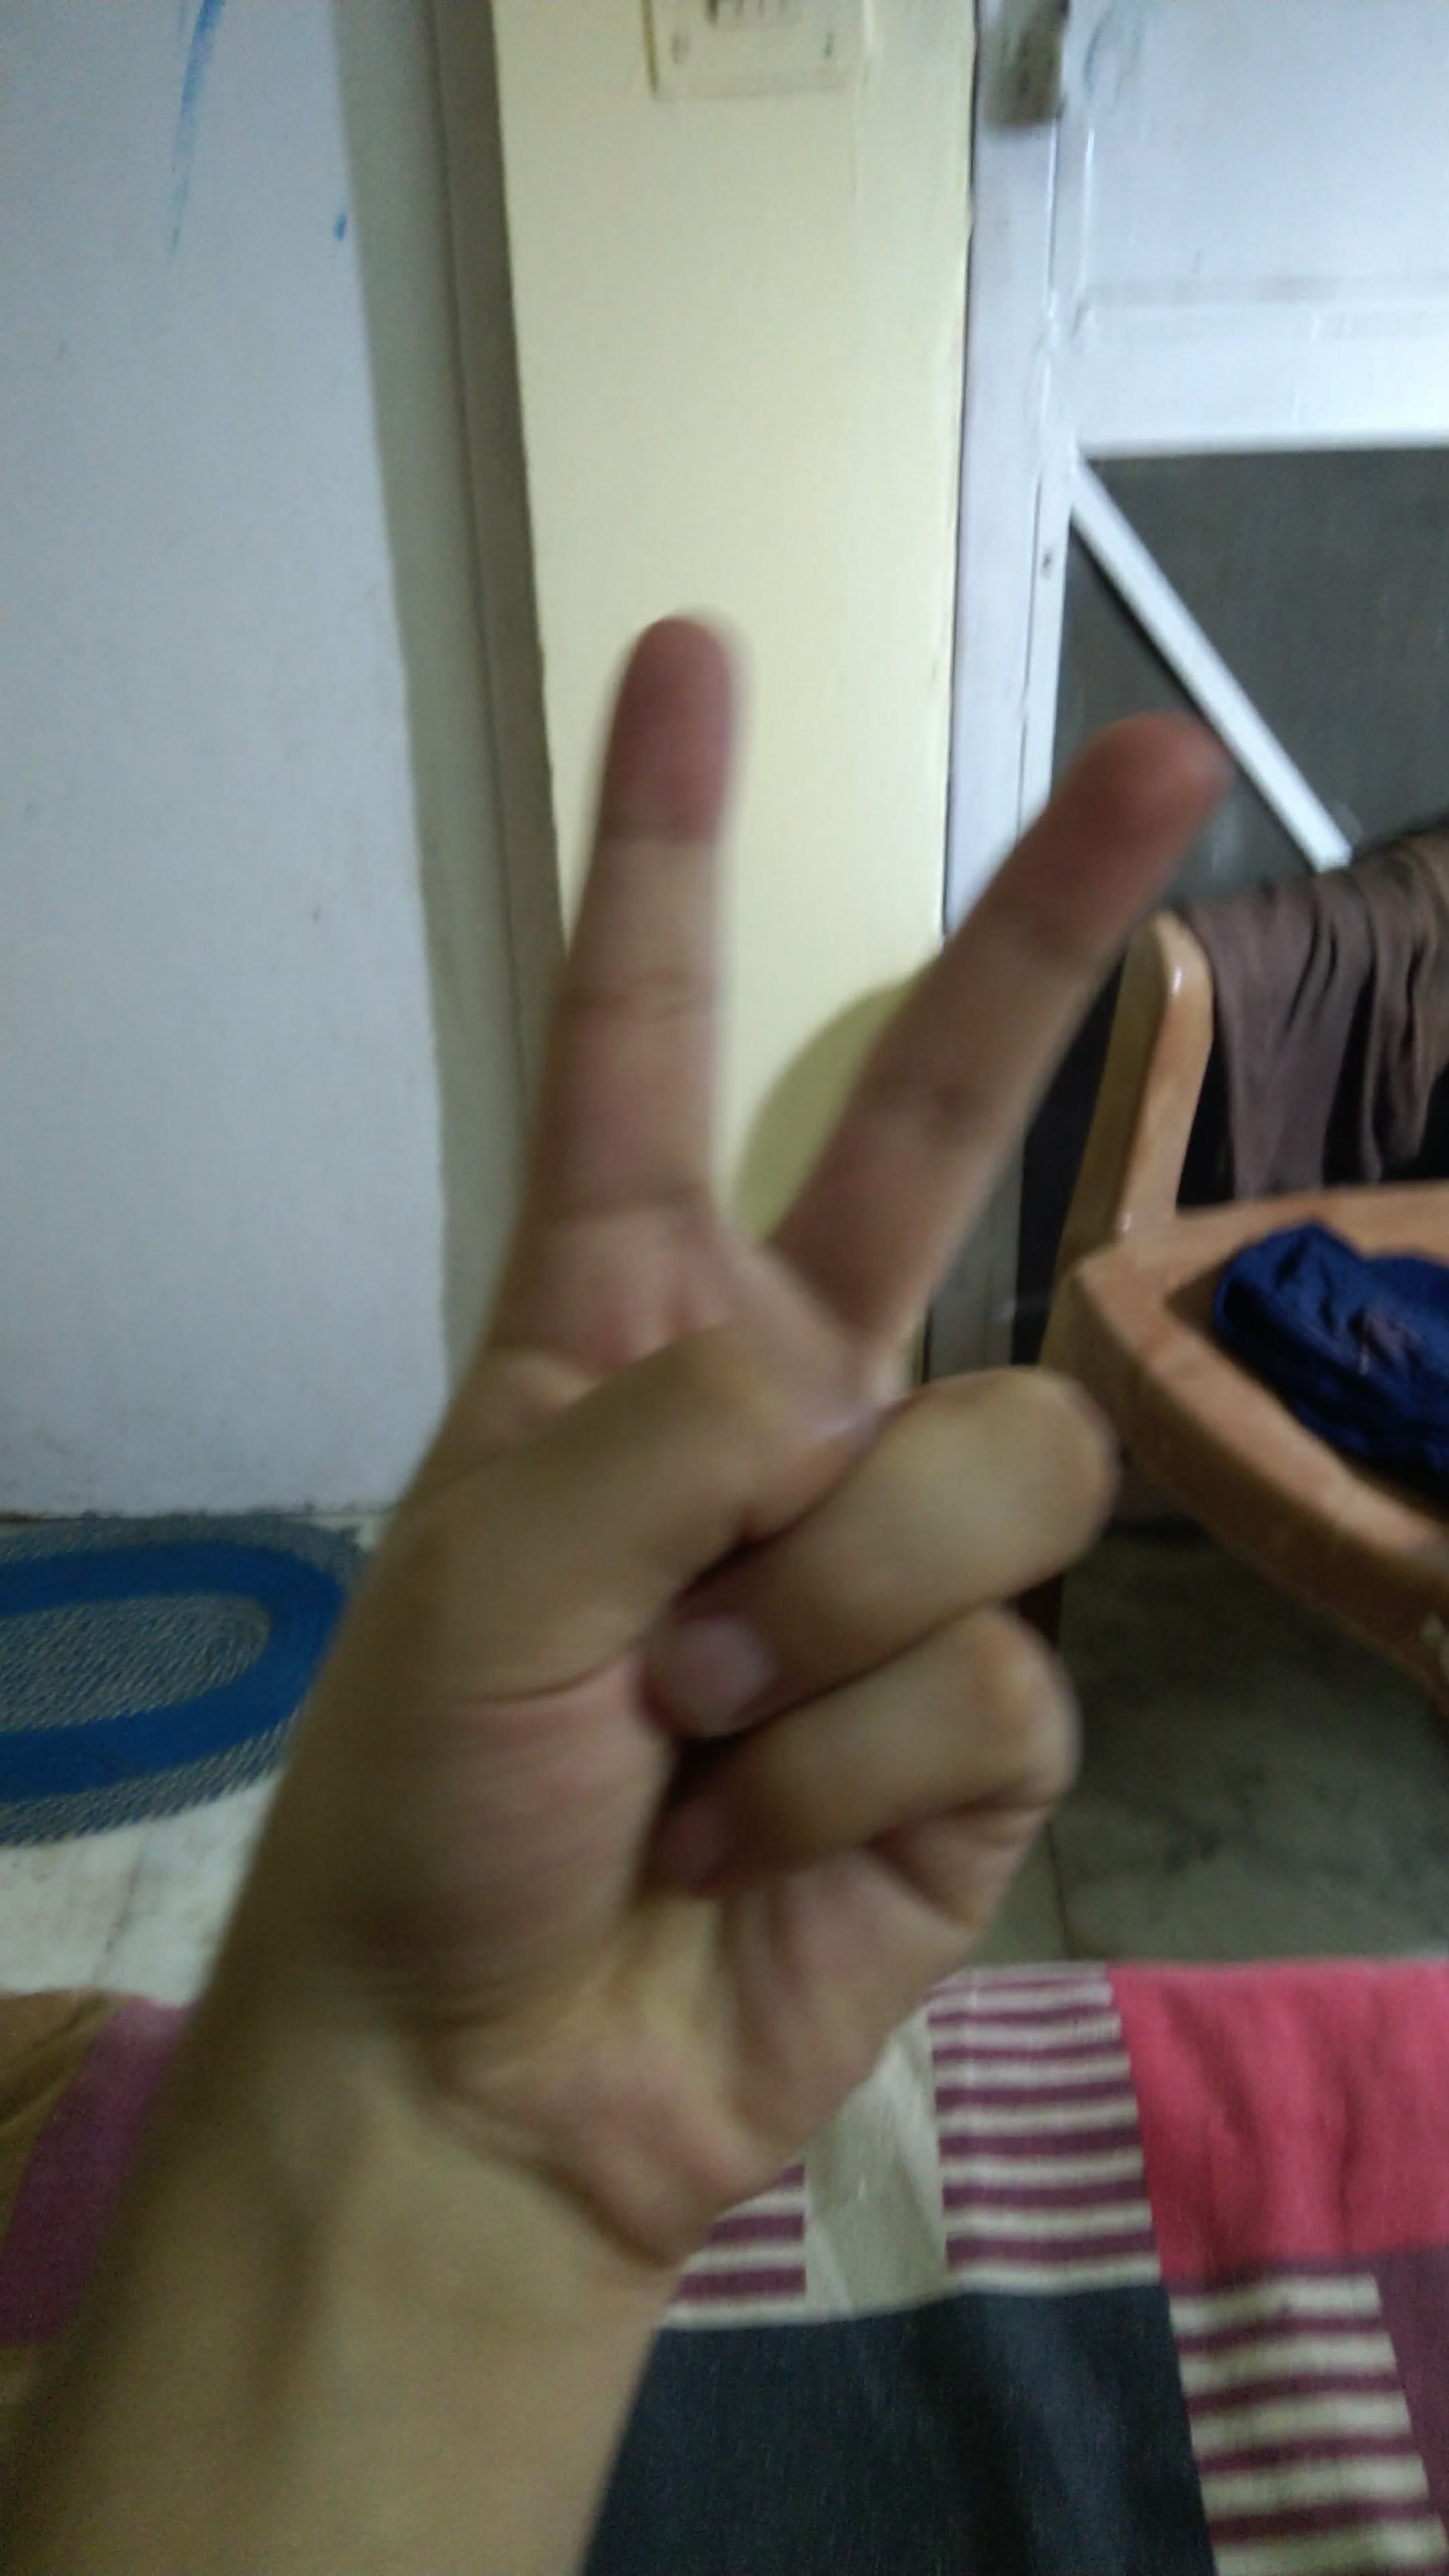hand: (145, 575, 1329, 2364)
